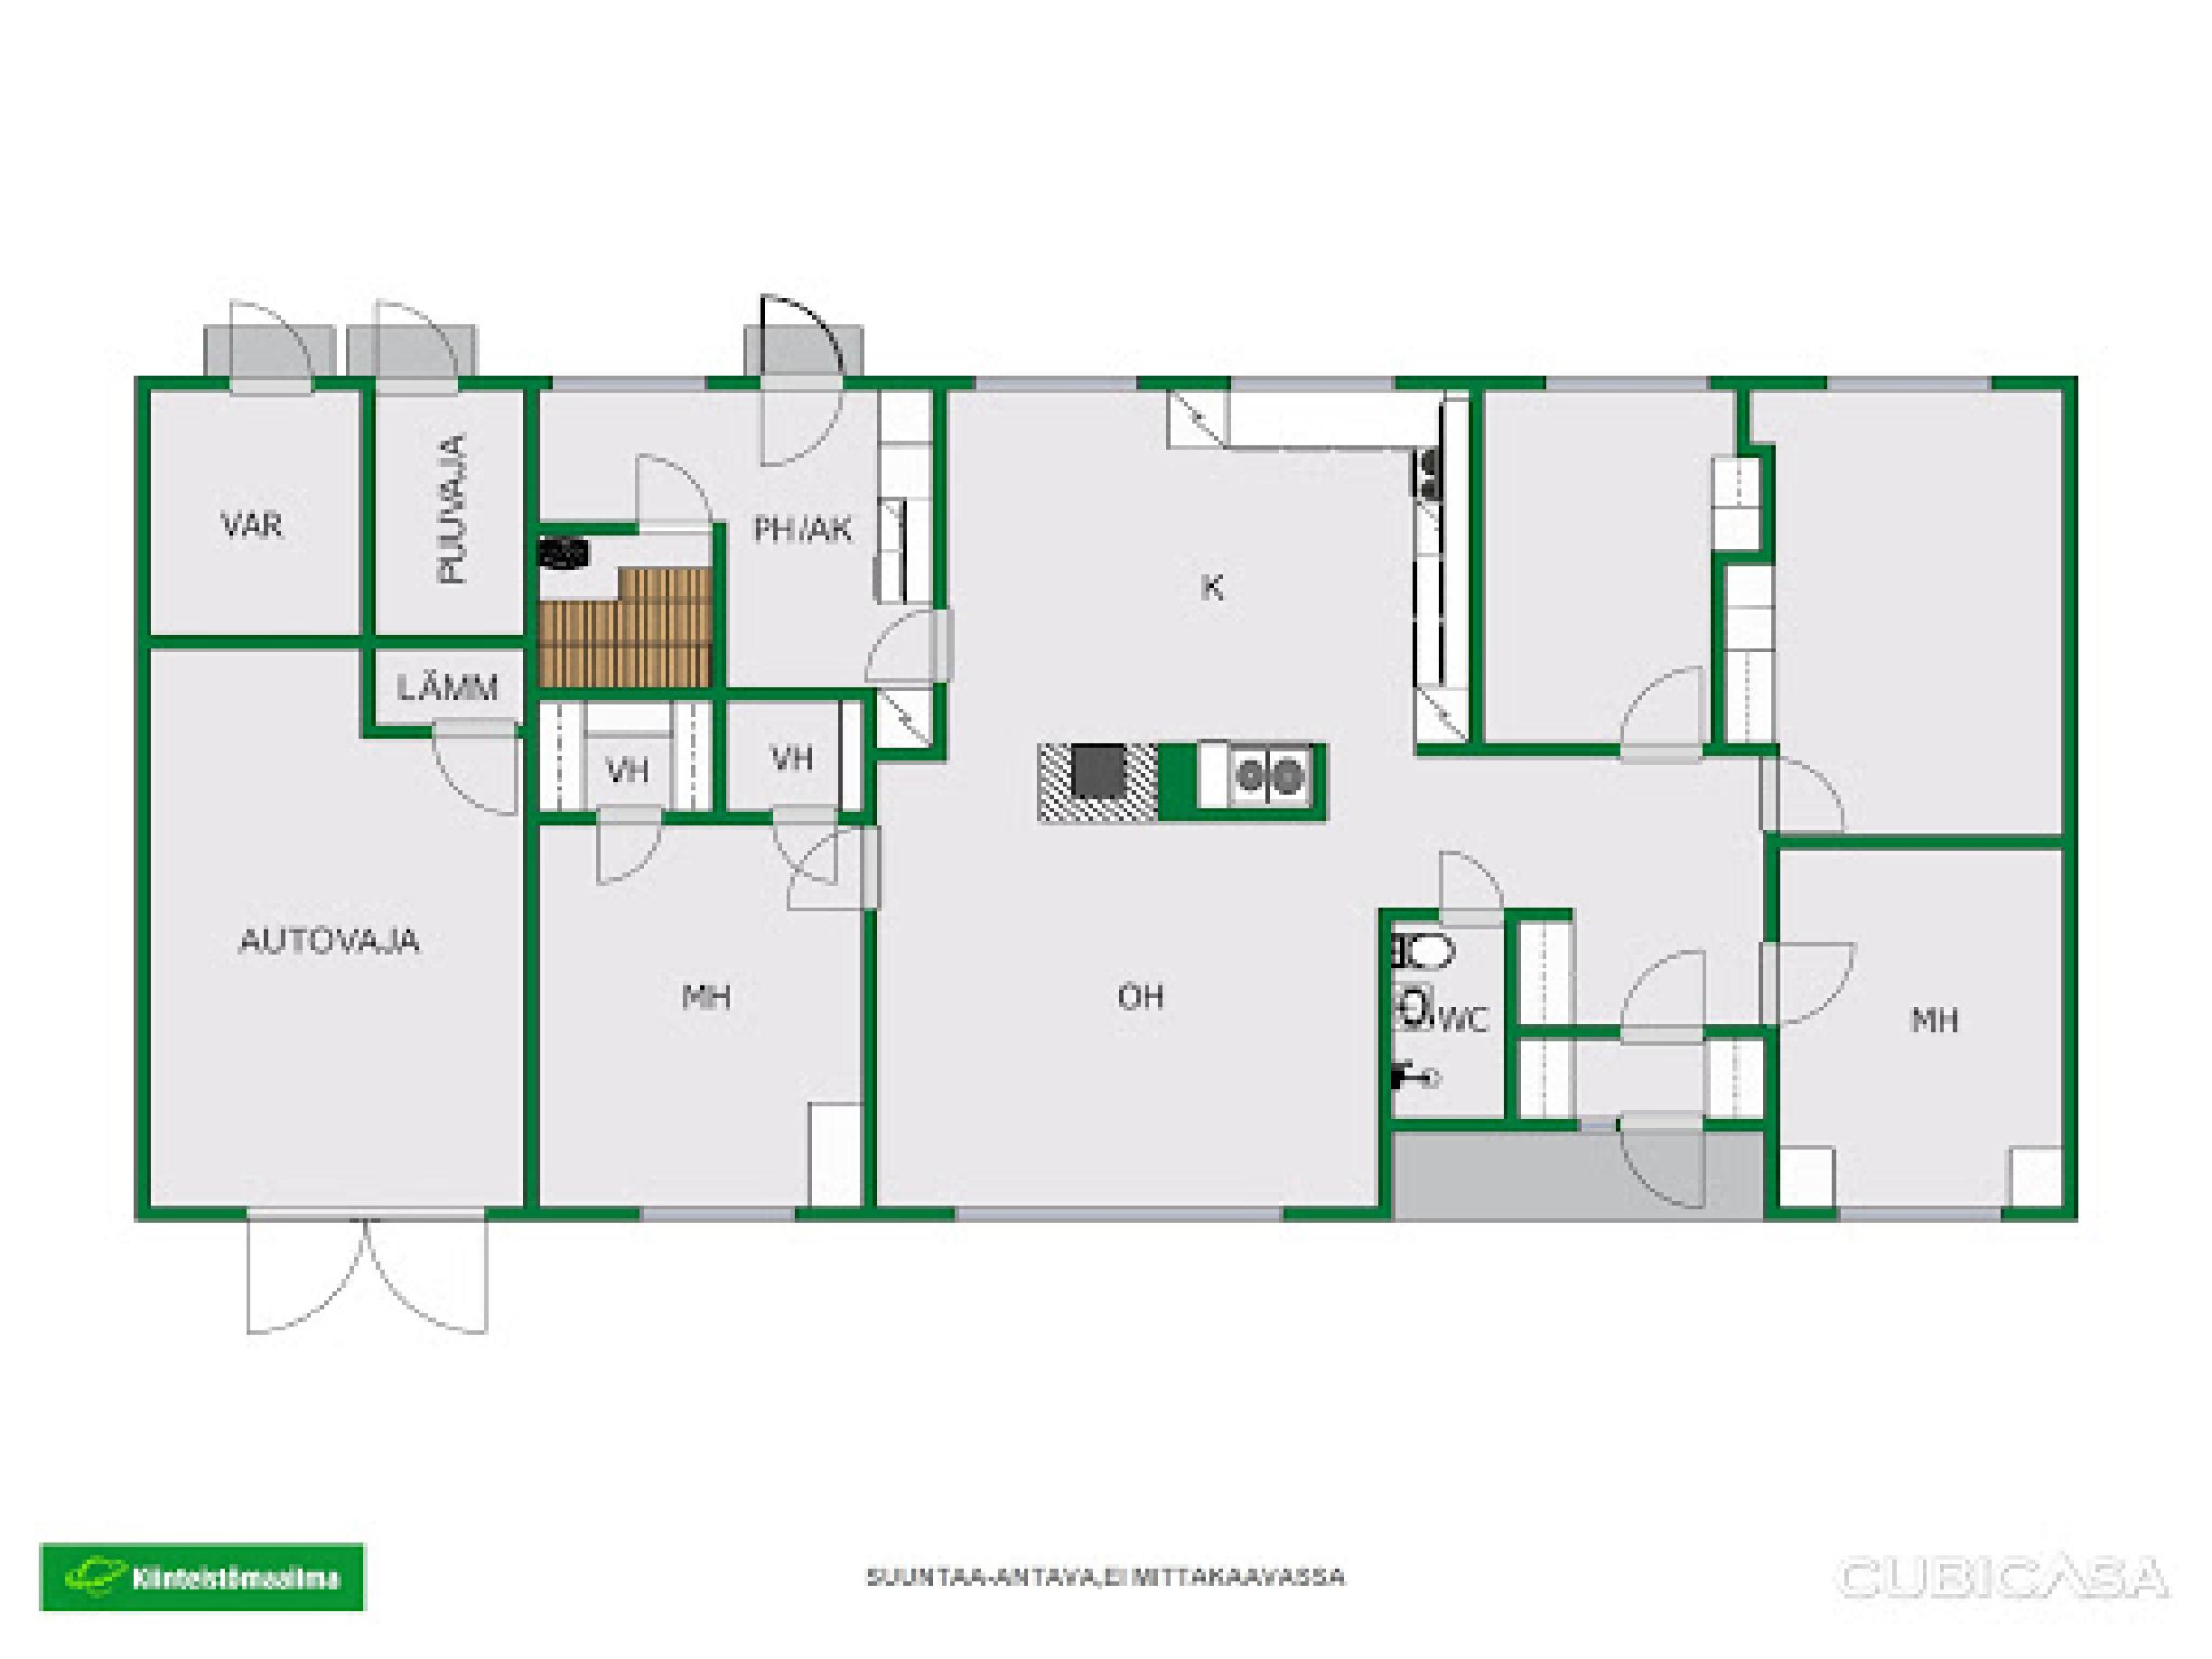door: (244, 1206, 490, 1344), (757, 293, 851, 474), (420, 713, 526, 833), (758, 823, 882, 922), (366, 295, 469, 411), (220, 301, 322, 415), (1605, 667, 1720, 763), (1612, 1110, 1719, 1209), (1748, 938, 1856, 1028), (1618, 939, 1710, 1040), (1752, 749, 1855, 835), (858, 608, 959, 685), (1429, 843, 1510, 938), (593, 805, 675, 892), (634, 451, 713, 538), (765, 800, 835, 884)
window: (947, 1204, 1286, 1230), (973, 364, 1138, 403), (1548, 368, 1710, 403), (547, 368, 706, 399), (1231, 373, 1394, 399), (1839, 1201, 2001, 1227), (1827, 375, 1994, 399), (640, 1201, 786, 1227)
zone: (887, 387, 1764, 1204), (148, 650, 519, 1206), (1741, 387, 2060, 833), (540, 824, 859, 1202), (539, 389, 931, 681), (1482, 389, 1766, 741), (1781, 850, 2053, 1202), (152, 390, 357, 629), (377, 394, 521, 633), (535, 528, 715, 683), (1386, 915, 1504, 1114), (1408, 1143, 1762, 1208), (540, 702, 711, 812), (1525, 1042, 1752, 1112), (729, 697, 861, 814), (378, 645, 519, 725)
